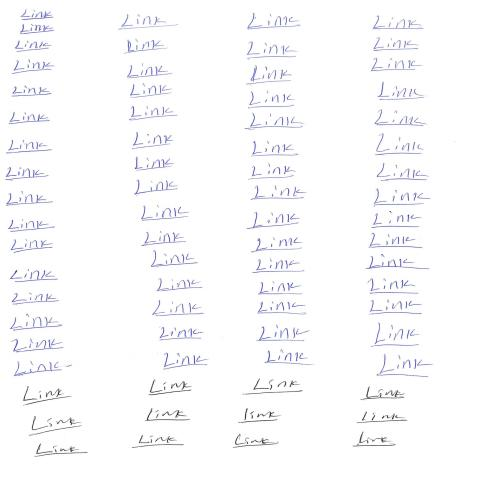Link: (376, 354, 432, 378), (375, 133, 425, 157), (373, 188, 432, 207), (28, 416, 81, 437), (364, 254, 432, 270), (245, 379, 303, 397), (246, 212, 302, 230), (9, 313, 62, 332), (246, 66, 296, 86), (247, 13, 301, 31), (374, 110, 428, 128), (152, 300, 205, 318), (246, 114, 302, 131), (256, 325, 312, 342), (21, 385, 66, 406), (367, 233, 426, 249), (245, 42, 297, 60), (371, 211, 423, 229), (250, 237, 305, 254), (378, 82, 427, 101), (368, 278, 419, 296), (118, 15, 175, 31), (250, 185, 307, 201), (248, 92, 298, 110), (13, 360, 63, 378), (5, 190, 55, 208), (151, 250, 200, 268), (368, 300, 423, 316), (148, 378, 194, 397), (131, 132, 176, 151), (141, 205, 191, 222), (372, 15, 425, 31), (163, 353, 210, 371), (13, 338, 63, 354), (140, 231, 187, 248), (134, 179, 180, 196), (35, 444, 87, 459), (129, 106, 177, 122), (248, 164, 296, 180), (251, 141, 296, 158), (252, 259, 303, 274), (257, 301, 308, 316), (236, 409, 283, 425), (133, 434, 183, 449), (130, 82, 174, 99), (126, 64, 172, 80), (352, 432, 398, 448), (156, 278, 205, 293), (372, 37, 420, 52), (370, 58, 421, 72), (6, 140, 53, 155), (264, 351, 311, 366), (231, 434, 278, 449), (159, 327, 206, 342), (11, 59, 55, 75), (11, 291, 61, 305), (10, 269, 59, 283), (257, 282, 305, 296), (10, 239, 54, 254), (125, 39, 166, 55), (134, 156, 175, 172), (5, 167, 51, 181), (355, 413, 407, 425), (9, 112, 50, 127), (8, 220, 55, 233), (361, 387, 404, 401), (145, 408, 188, 422), (14, 40, 52, 54), (10, 86, 54, 98), (20, 10, 55, 22), (20, 24, 55, 36)
